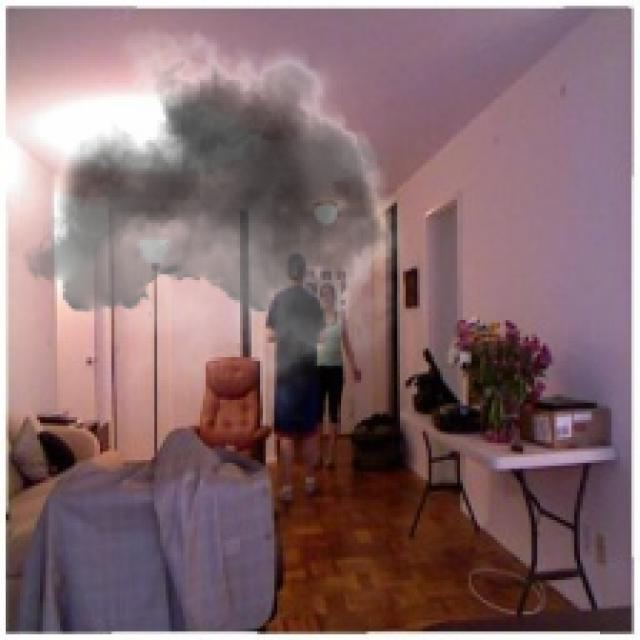smoke: (23, 8, 423, 423)
